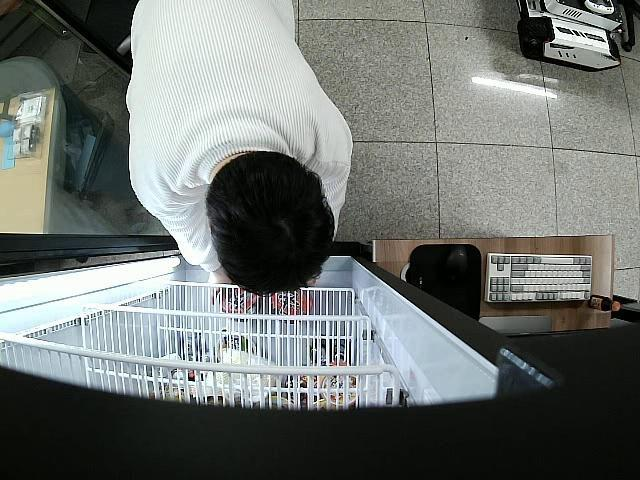01_ShinRamen_L: (222, 288, 260, 322)
